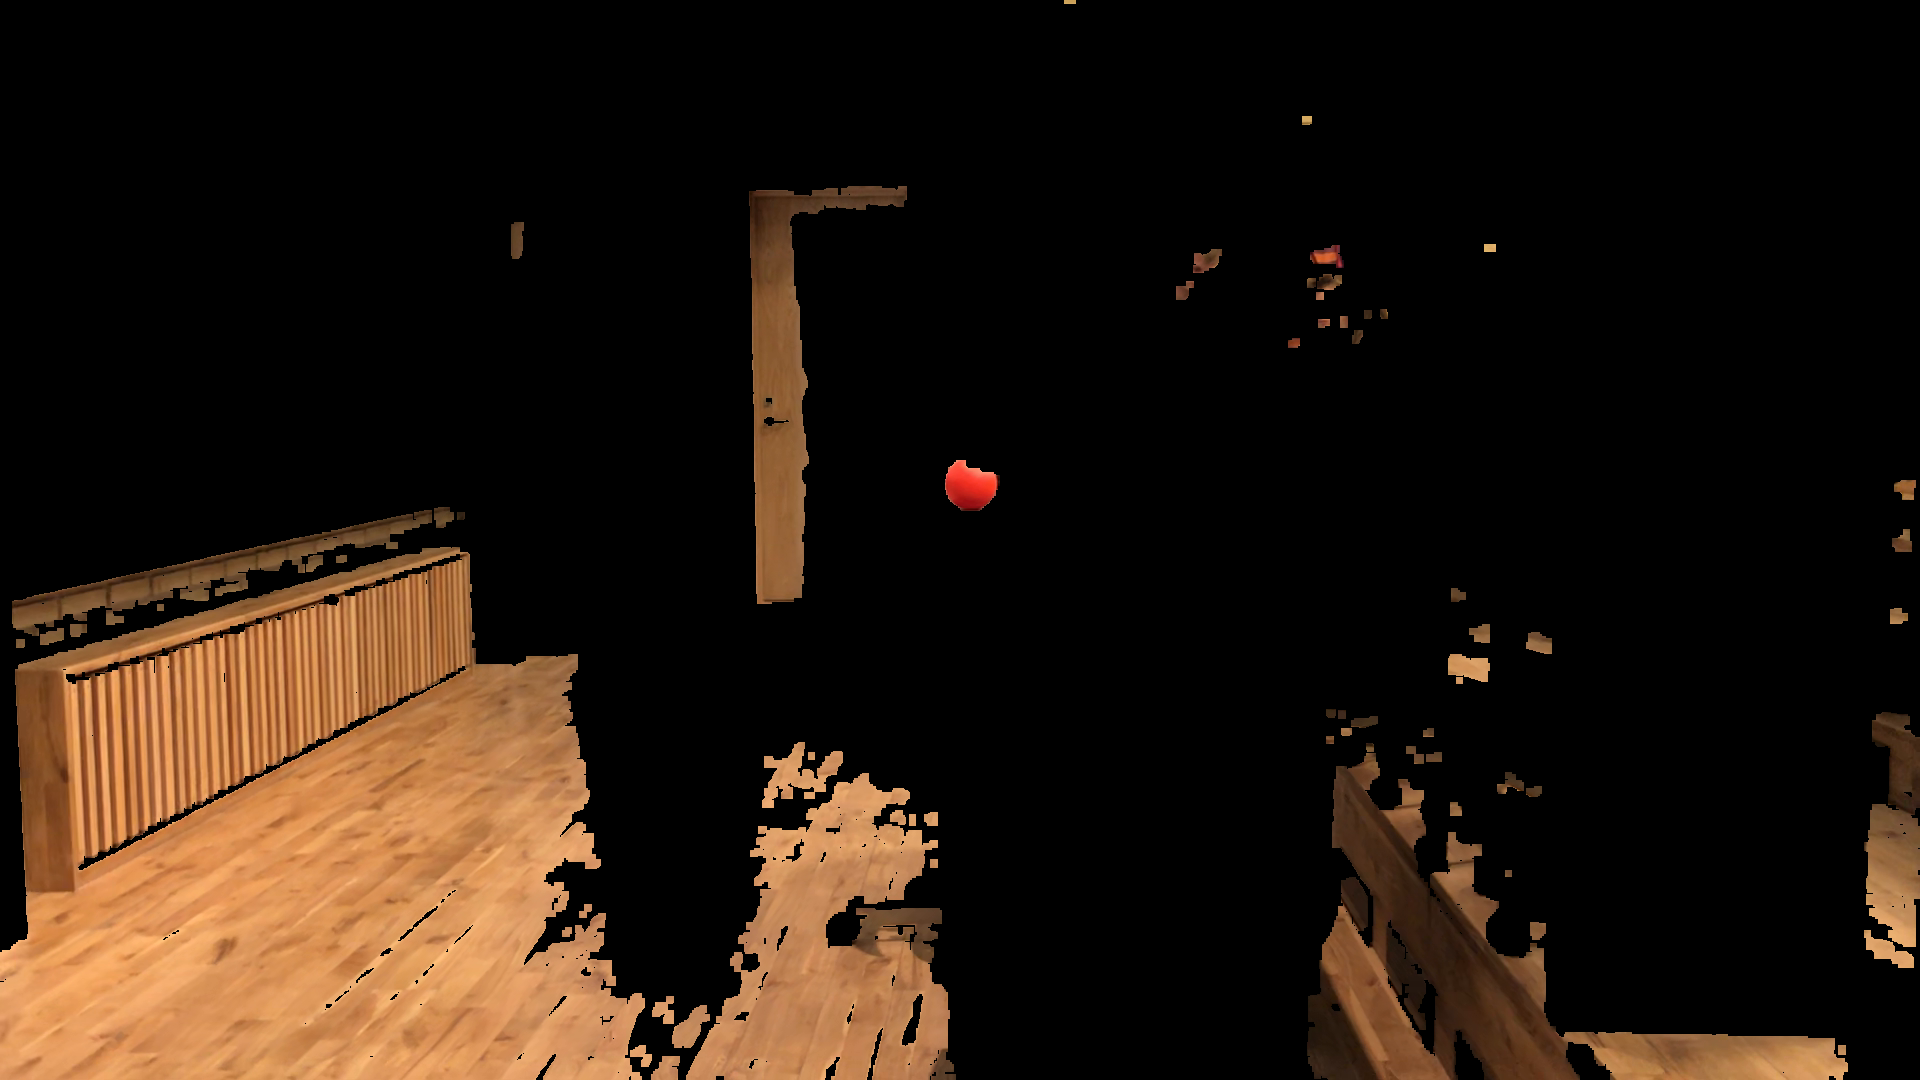Ball: (942, 454, 1004, 506)
